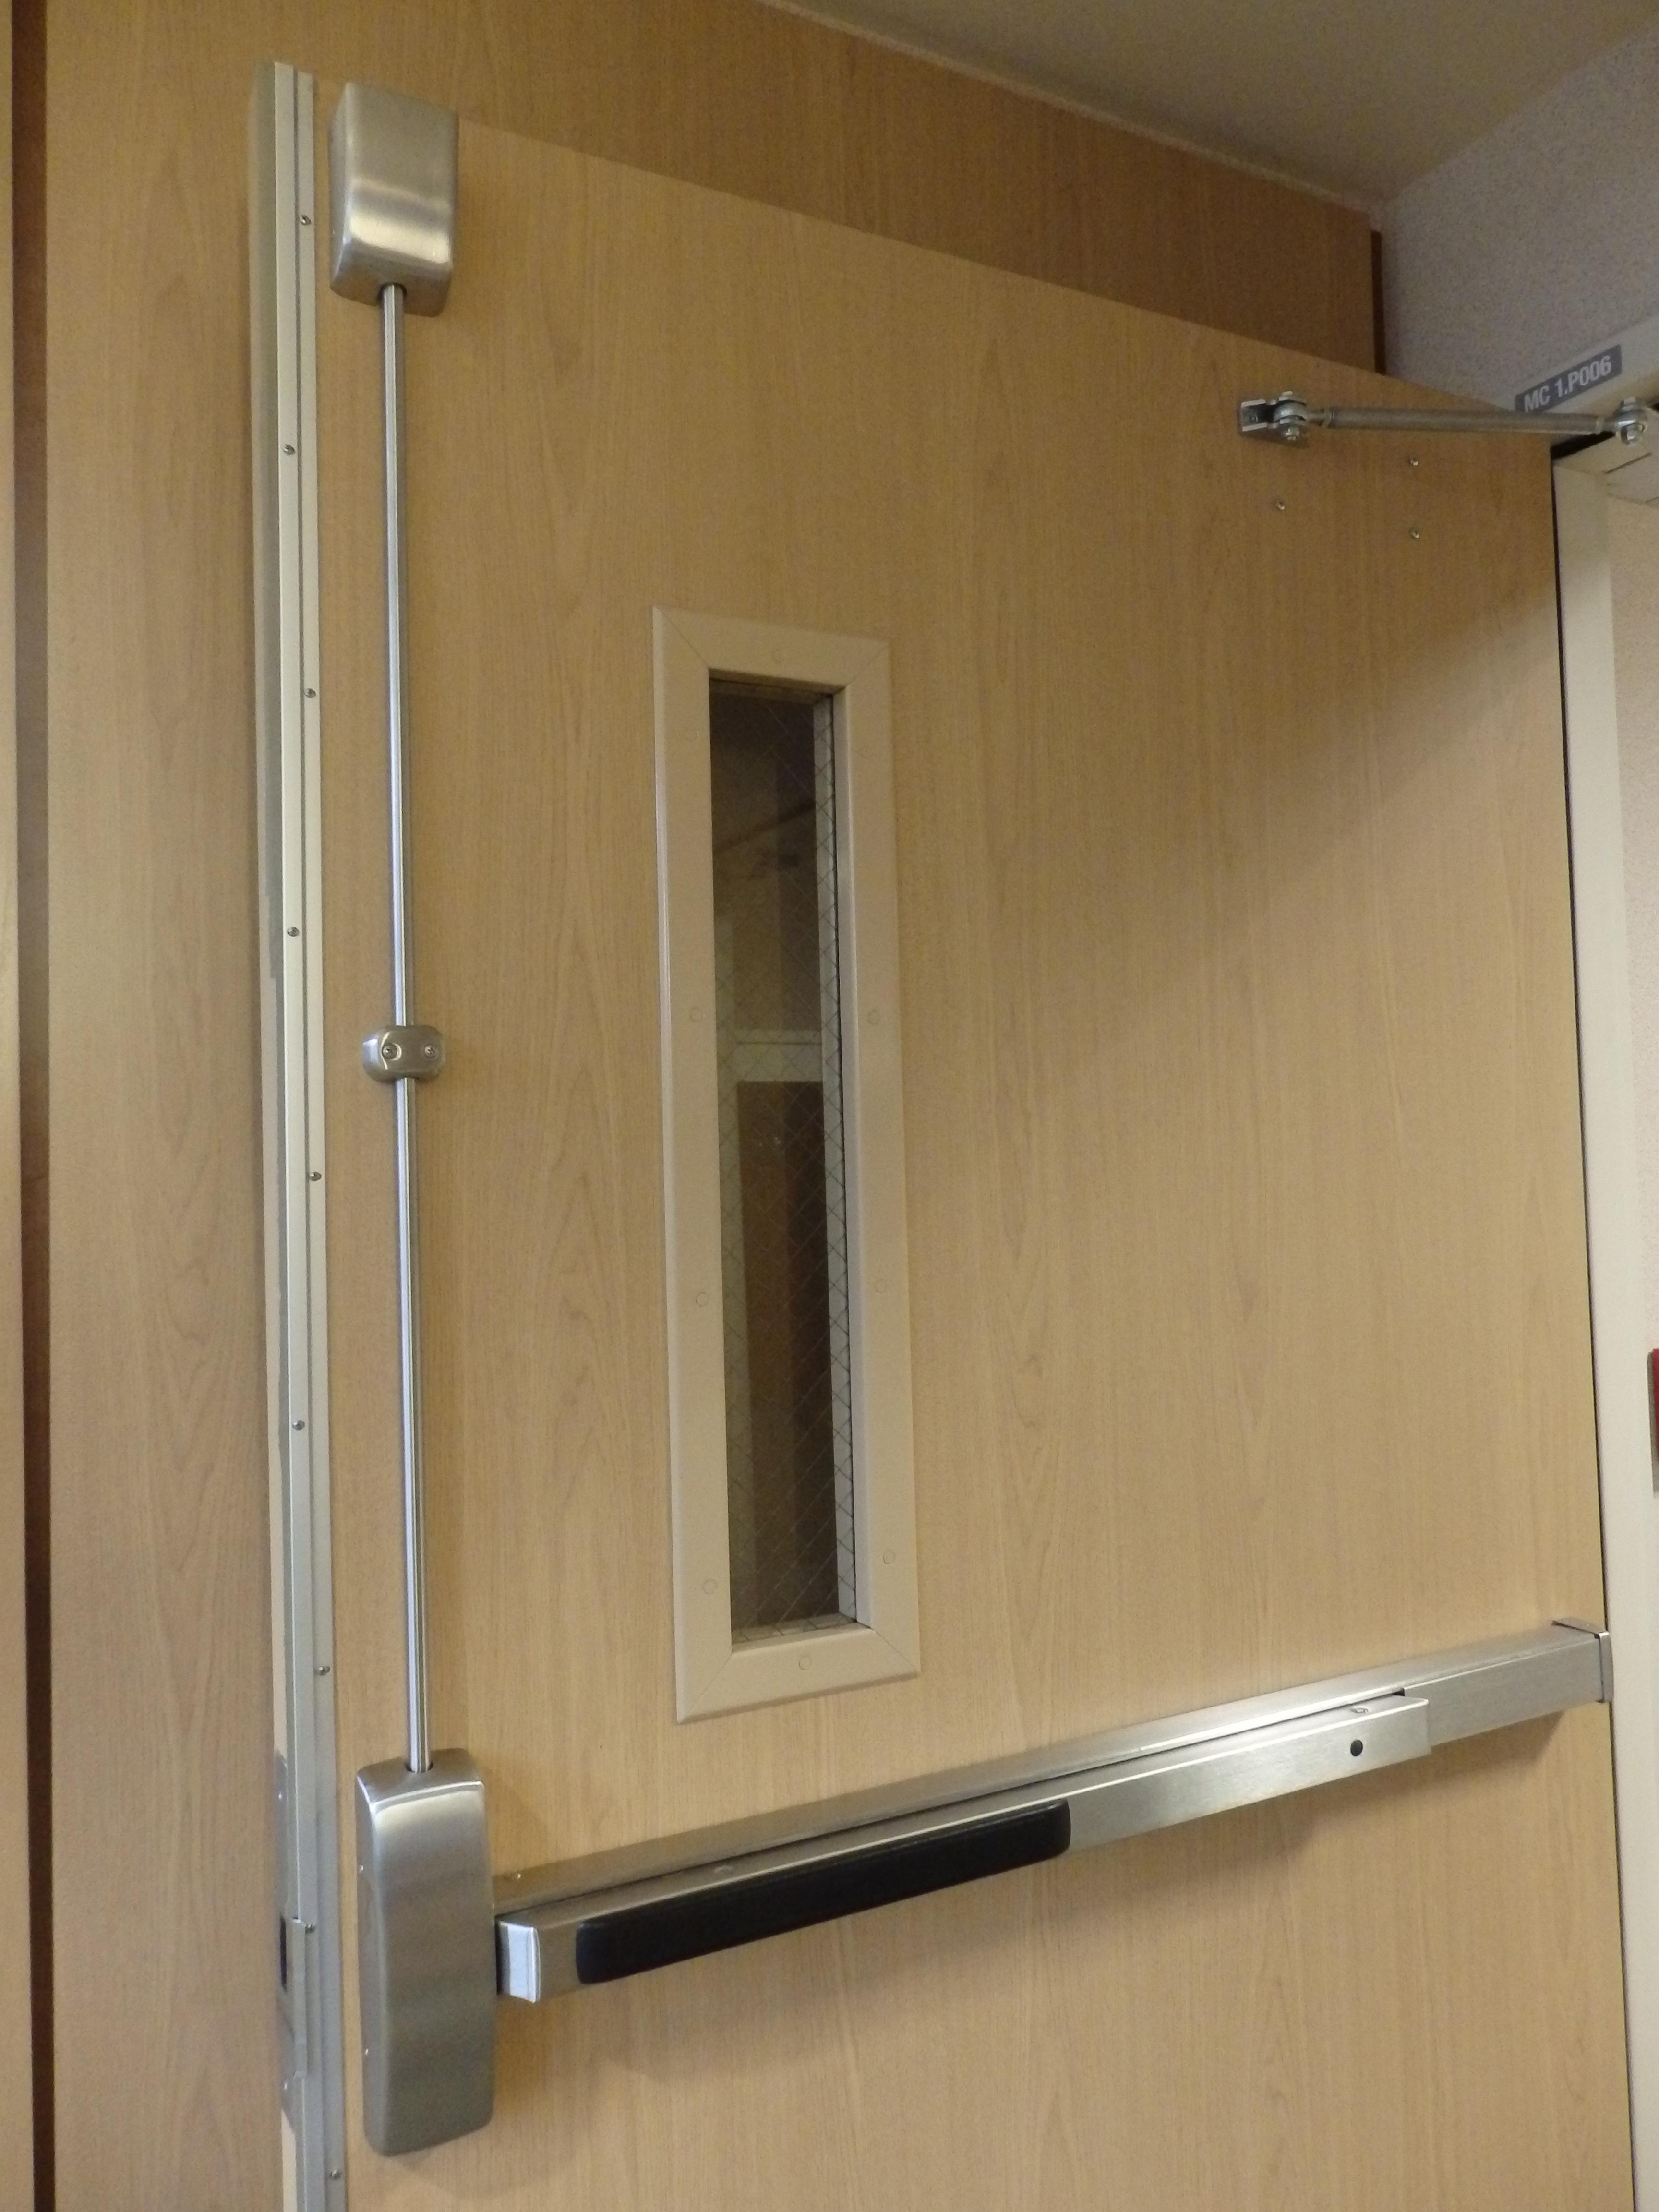door: (272, 63, 1628, 2212)
